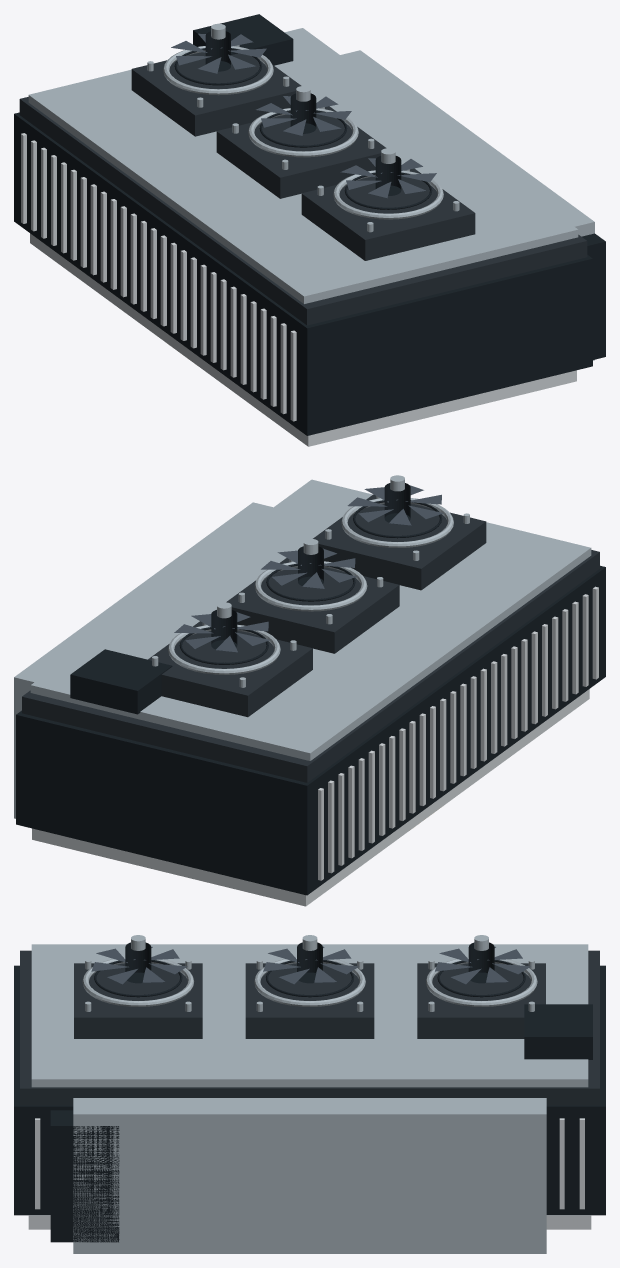
File: rtx4090.glb
3 views of the same model, one above another, from view 1: azimuth 30°, elevation 25°; view 2: azimuth 150°, elevation 25°; view 3: azimuth 270°, elevation 25° (orthographic).
Parts seen in each view (by area): view 1: rtx4090; view 2: rtx4090; view 3: rtx4090.
Boxes of the visible parts, x1=… form: rtx4090: x1=14, y1=14, x2=605, y2=446; rtx4090: x1=14, y1=475, x2=605, y2=906; rtx4090: x1=14, y1=935, x2=605, y2=1253.
Bounding box in the file's own units: 0.8723 × 0.6235 × 1.38.
